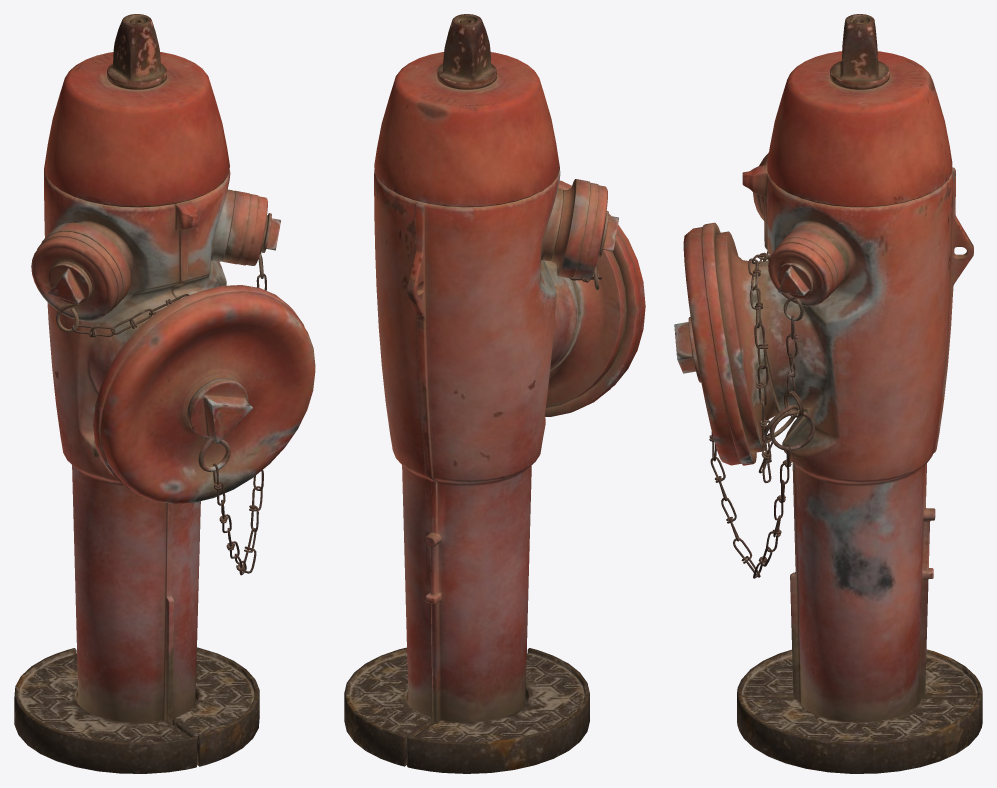
File: fire_hydrant_aged.glb
The picture shows the model from 3 angles, left to right: view 1: azimuth 30°, elevation 25°; view 2: azimuth 150°, elevation 25°; view 3: azimuth 270°, elevation 25°; orthographic projection.
Parts seen in each view (by area): view 1: fire_hydrant_aged; view 2: fire_hydrant_aged; view 3: fire_hydrant_aged.
Part boxes in pixels (x1=…): fire_hydrant_aged: x1=14, y1=14, x2=315, y2=773; fire_hydrant_aged: x1=344, y1=14, x2=645, y2=773; fire_hydrant_aged: x1=674, y1=14, x2=982, y2=773.
Size of the model in its own units: 0.2746 by 0.7995 by 0.3177.
Materials: 1 (1 with a texture image).
